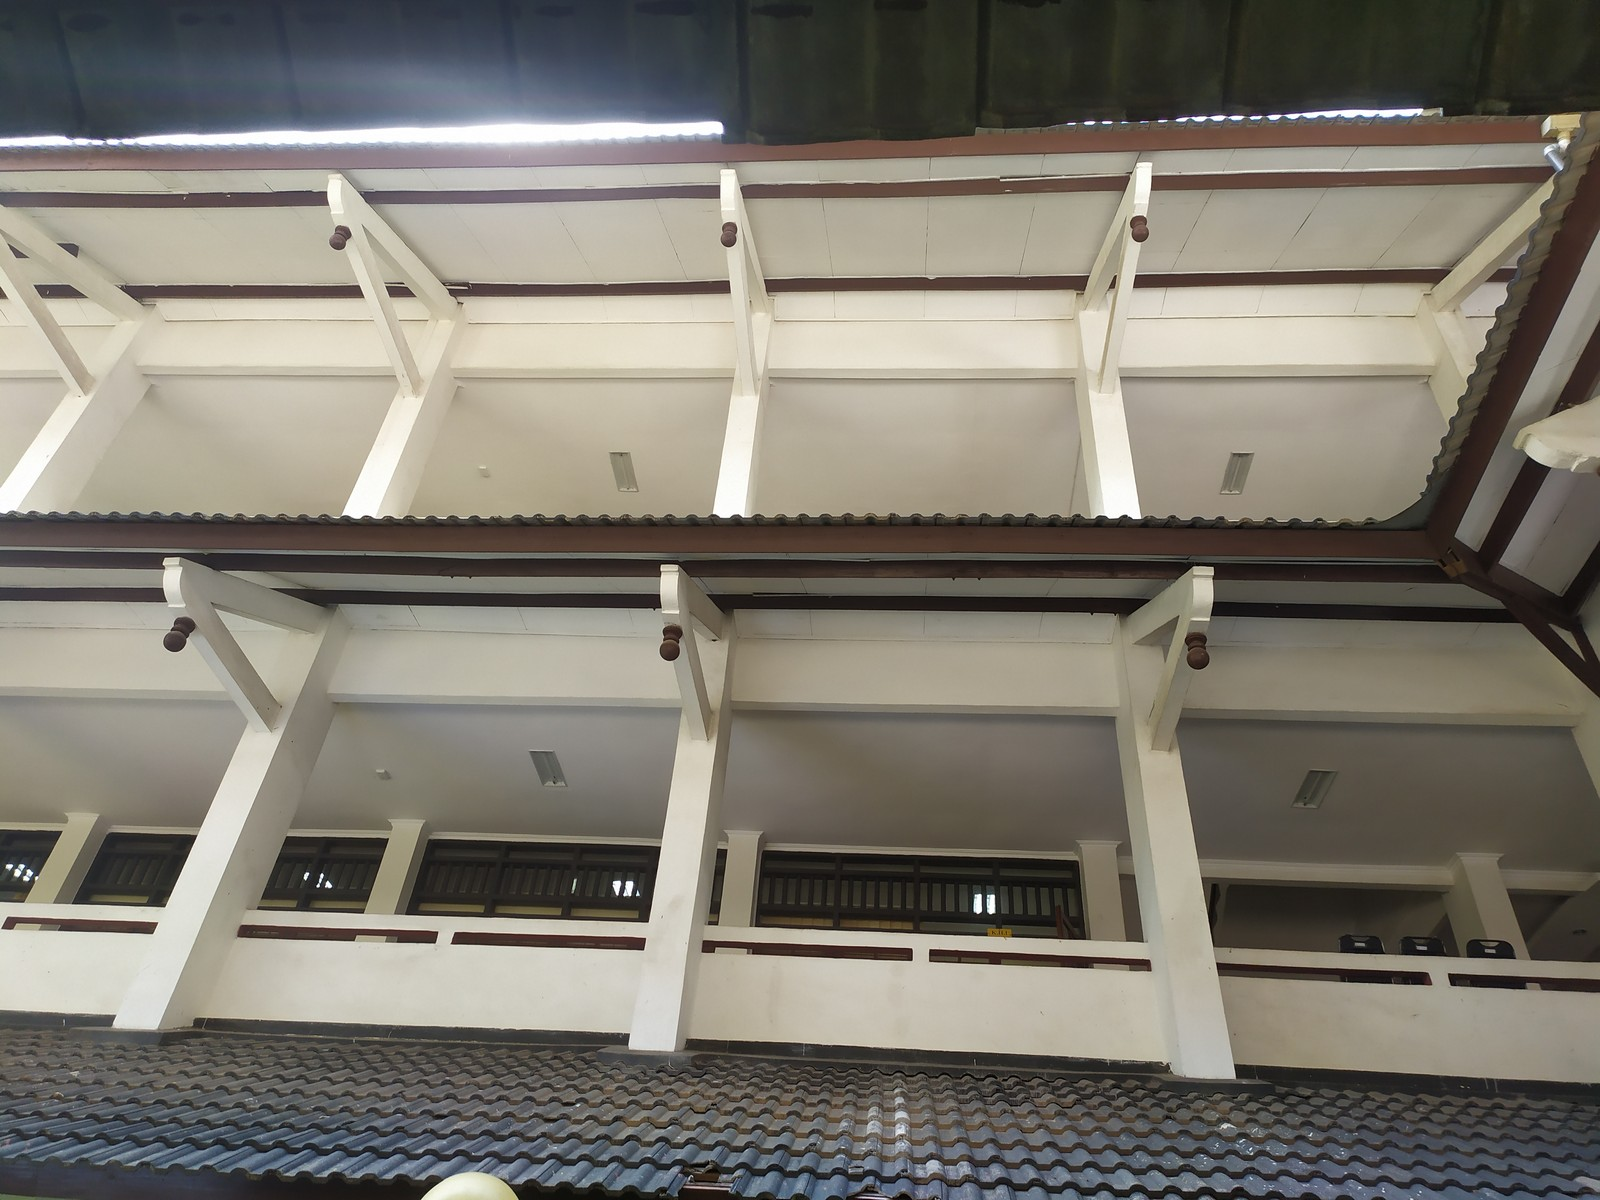concrete beam: (202, 630, 296, 754), (344, 255, 425, 397), (21, 281, 92, 400), (1089, 258, 1141, 388), (1136, 633, 1196, 747)
concrete column: (113, 722, 314, 1034), (1116, 742, 1247, 1082), (627, 737, 732, 1060), (346, 391, 461, 521), (1, 396, 122, 513), (1071, 376, 1150, 518)
